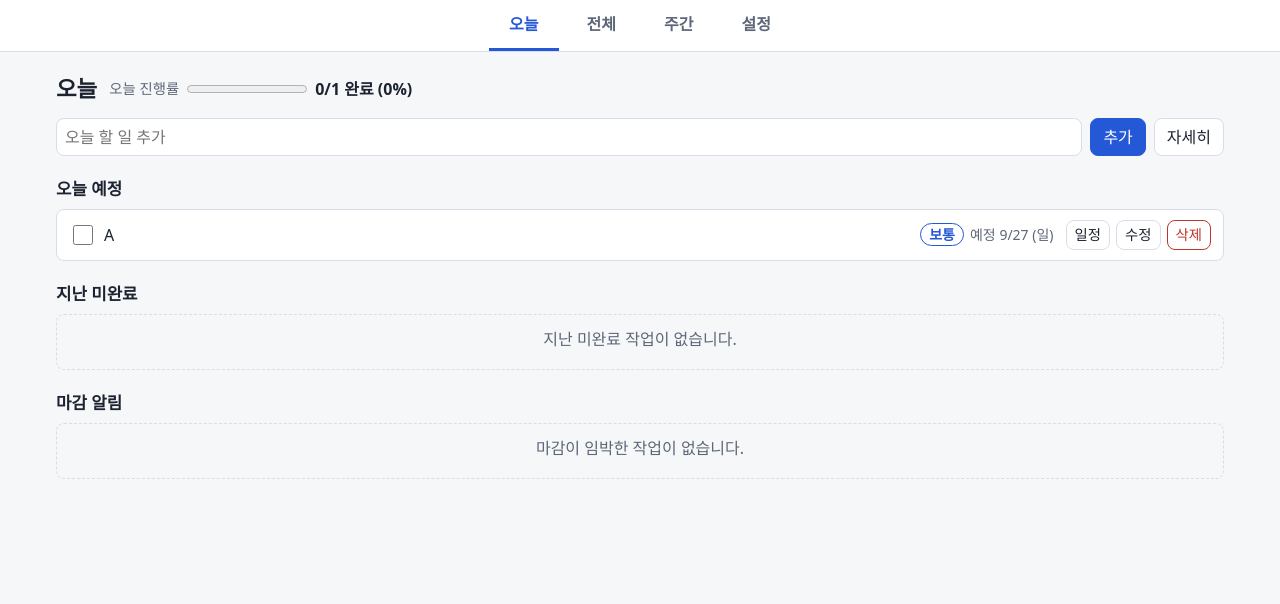
Test: 로그인 만료 › 저장 중 401이면 변경은 실패 목록에 남고 다시 로그인 링크가 보인다
Click the checkbox labelled "A" at (83, 235), box [73, 225, 93, 245]
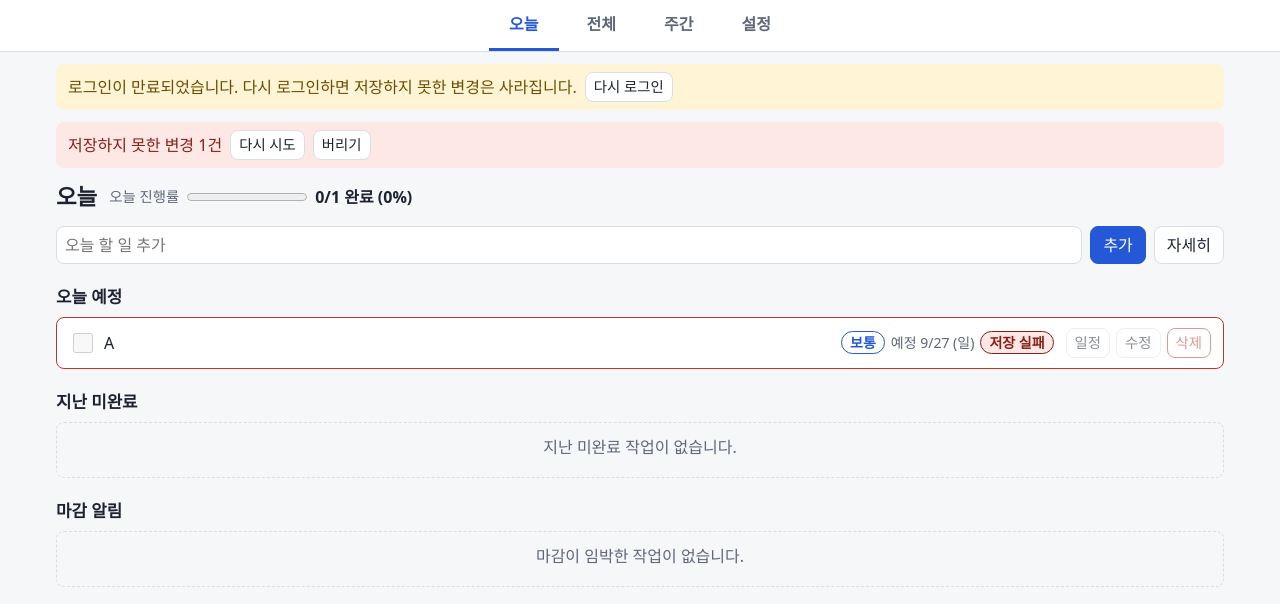
Check: the text "로그인이 만료되었습니다. 다시 로그인하면 저장하지 못한 변경은 사라집니다." is shown, box [68, 75, 577, 99]
Check: the text "저장하지 못한 변경 1건" is shown, box [68, 133, 222, 157]
